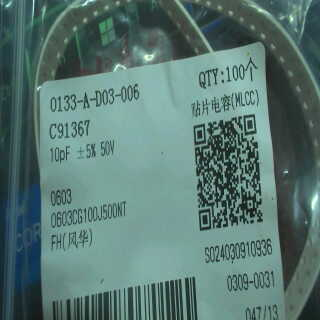10pF: (46, 141, 72, 167)
